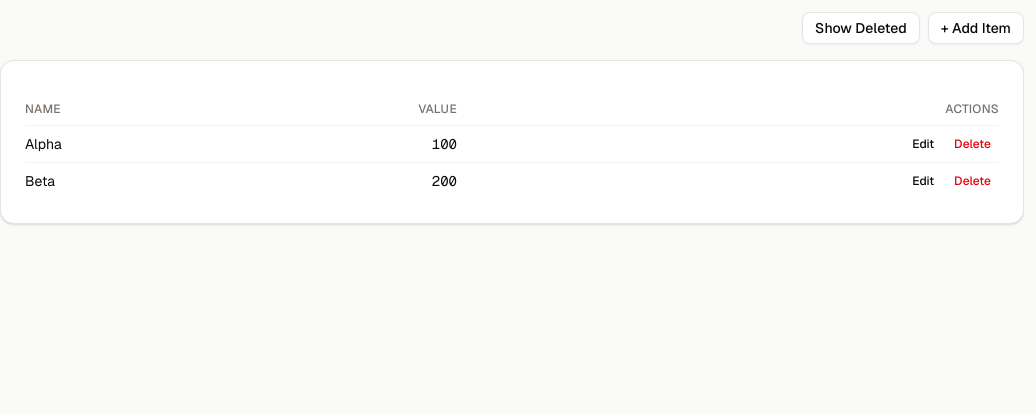
Test: CrudTable › cancels add form
What coordinates should you click on to do the following:
click the button "+ Add Item"
I would click on:
 (976, 28)
Its box is [928,12,1024,44].
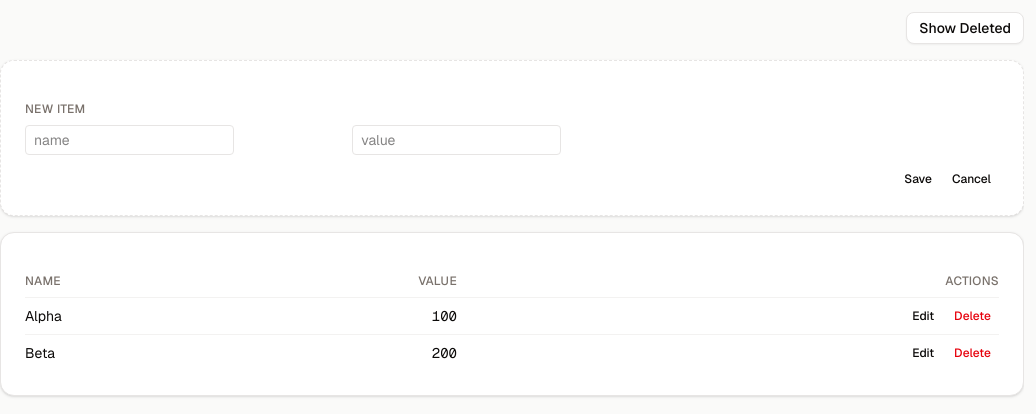
What coordinates should you click on to do the following:
click the button "Cancel"
I would click on:
 (971, 179)
Its box is [944,167,999,191].
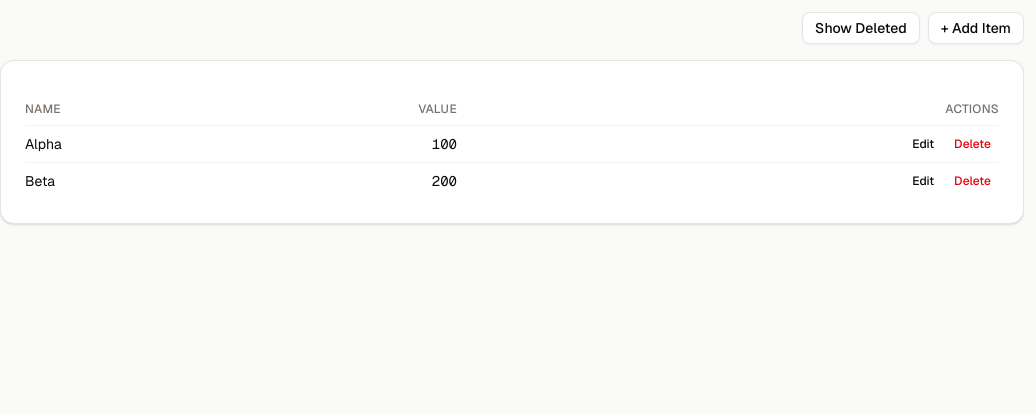
Expected: the text "New Item" is gone
